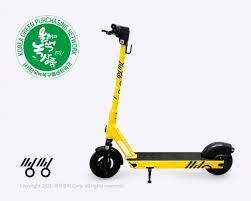kick_board: (90, 23, 233, 178)
kick_body: (134, 152, 202, 167)
kick_handler: (102, 24, 130, 45)
kick_neck: (105, 47, 125, 138)
kick_wheel: (91, 146, 121, 178), (204, 146, 232, 175)
